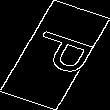P_SE: (14, 28, 96, 82)
